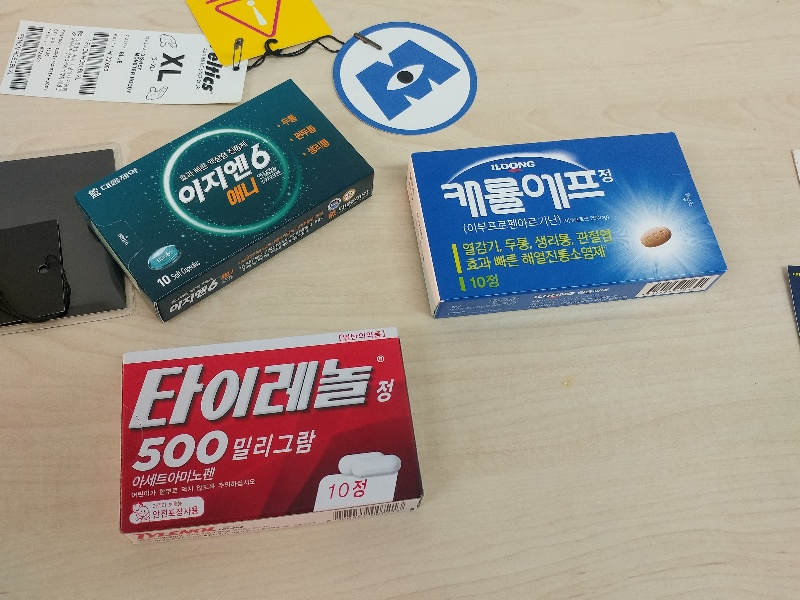carolF: (405, 131, 729, 320)
ezn: (73, 78, 376, 322)
tylenol: (122, 326, 424, 546)
